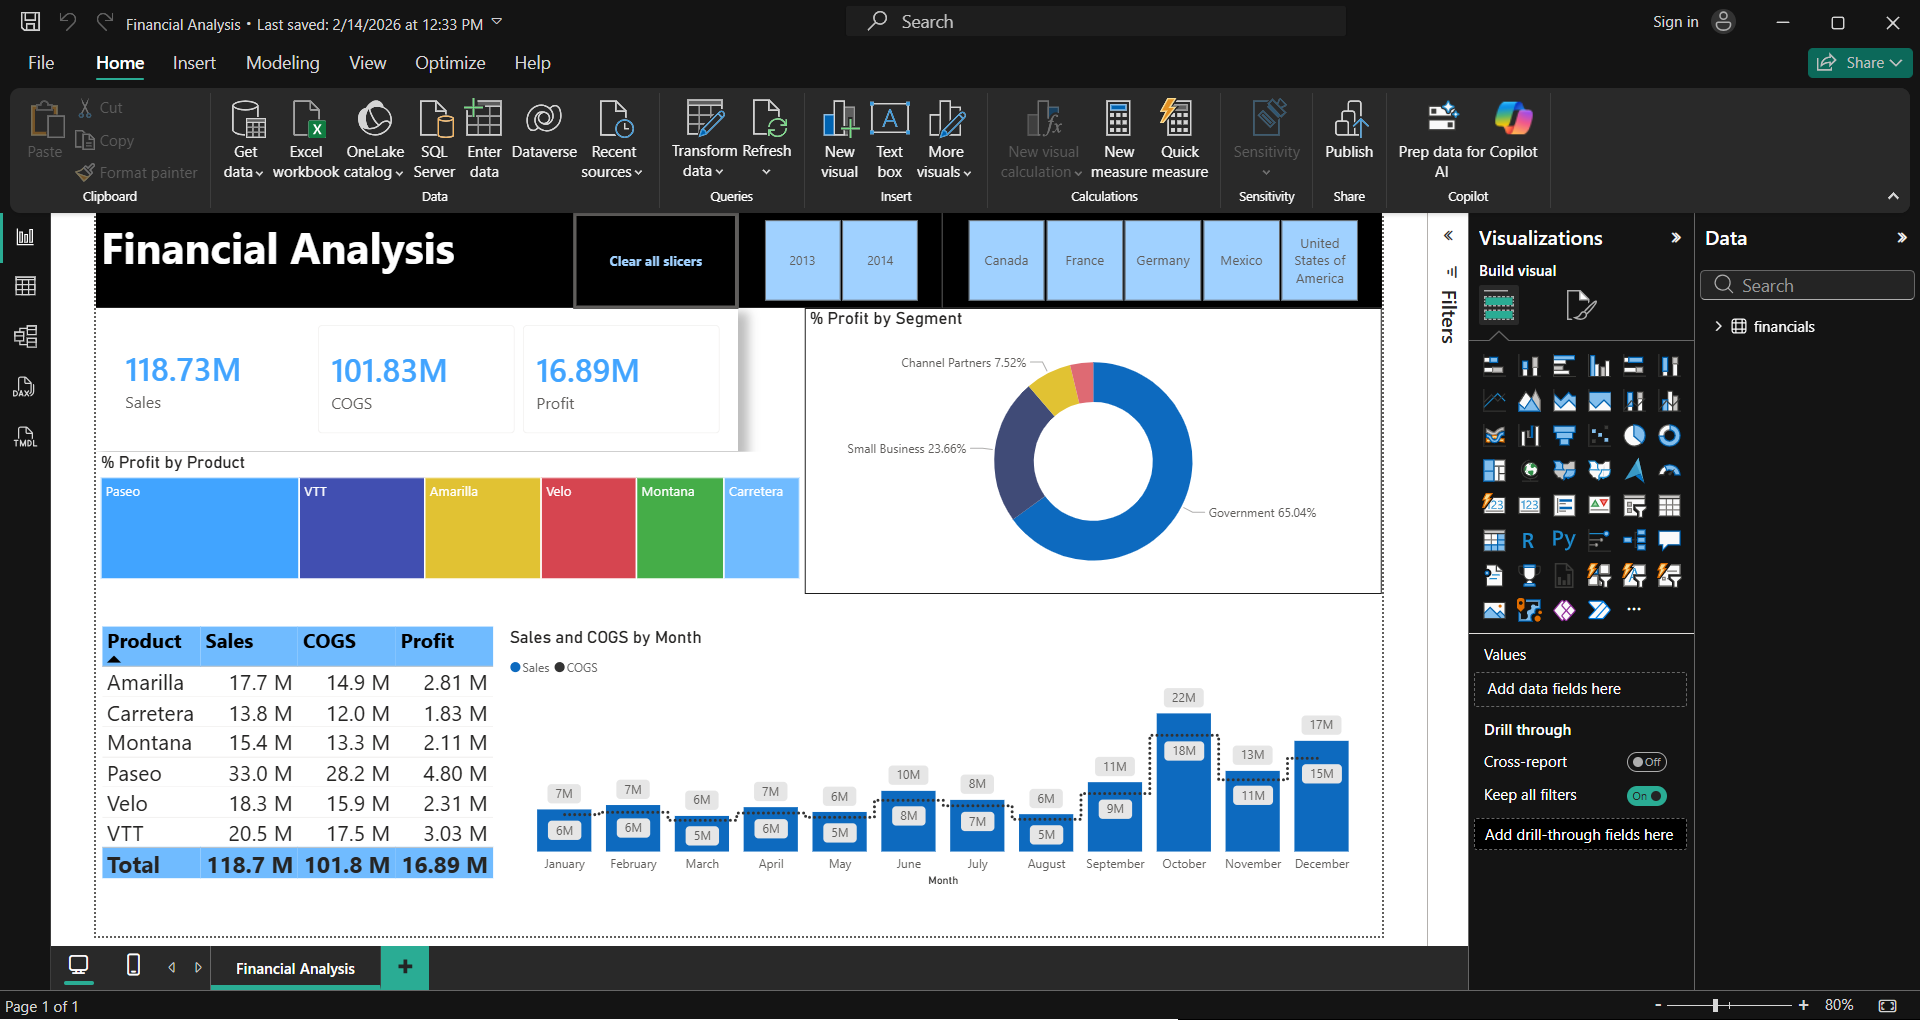

The dashboard page shown, as its layout file describes it:
{"tool":"powerbi","page":{"name":"Financial Analysis","canvas":[1280,720],"ordinal":0},"visuals":[{"type":"textbox","box":[0,0,475.2,94.5],"z":0},{"type":"cardVisual","fields":{"Data":["Sum(financials.Sales)","Sum(financials.COGS)","Sum(financials.Profit)"]},"box":[0,95.1,638.9,142.6],"z":1000},{"type":"treemap","title":"% Profit by Product","fields":{"Group":["financials.Product"],"Values":["Sum(financials.Profit)"]},"box":[0,237.6,705.3,131.9],"z":4000},{"type":"donutChart","title":"% Profit by Segment","fields":{"Category":["financials.Segment"],"Y":["Sum(financials.Profit)"]},"box":[705.3,94.5,574.7,284.9],"z":5000},{"type":"tableEx","fields":{"Values":["financials.Product","Sum(financials.Sales)","Sum(financials.COGS)","Sum(financials.Profit)"]},"box":[0,406.8,406.8,268.7],"z":6000},{"type":"slicer","fields":{"Values":["financials.Date.Variation.Date Hierarchy.Year"]},"box":[639.4,0,202.8,94.5],"z":7000},{"type":"actionButton","box":[475.3,0,163.7,95.1],"z":8000},{"type":"slicer","fields":{"Values":["financials.Country"]},"box":[842.2,0,437.9,94.5],"z":9000},{"type":"lineClusteredColumnComboChart","title":"Sales and COGS by Month","fields":{"Category":["financials.Date.Variation.Date Hierarchy.Month"],"Y":["Sum(financials.Sales)"],"Y2":["Sum(financials.COGS)"]},"box":[406.8,411.8,873.3,263.7],"z":10000}]}

Visuals, with their boxes on the page's 1280x720 design canvas (x1, y1, x2, y2). These are canvas units, not pixel positions in the 1920x1020 screenshot, which may show the page scaled, cropped or inside an application window:
textbox: BBox(0, 0, 475, 94)
cardVisual - Sum(financials.Sales) x Sum(financials.COGS): BBox(0, 95, 639, 238)
"% Profit by Product" treemap: BBox(0, 238, 705, 370)
"% Profit by Segment" donutChart: BBox(705, 94, 1280, 379)
tableEx - financials.Product x Sum(financials.Sales): BBox(0, 407, 407, 676)
slicer - financials.Date.Variation.Date Hierarchy.Year: BBox(639, 0, 842, 94)
actionButton: BBox(475, 0, 639, 95)
slicer - financials.Country: BBox(842, 0, 1280, 94)
"Sales and COGS by Month" lineClusteredColumnComboChart: BBox(407, 412, 1280, 676)
